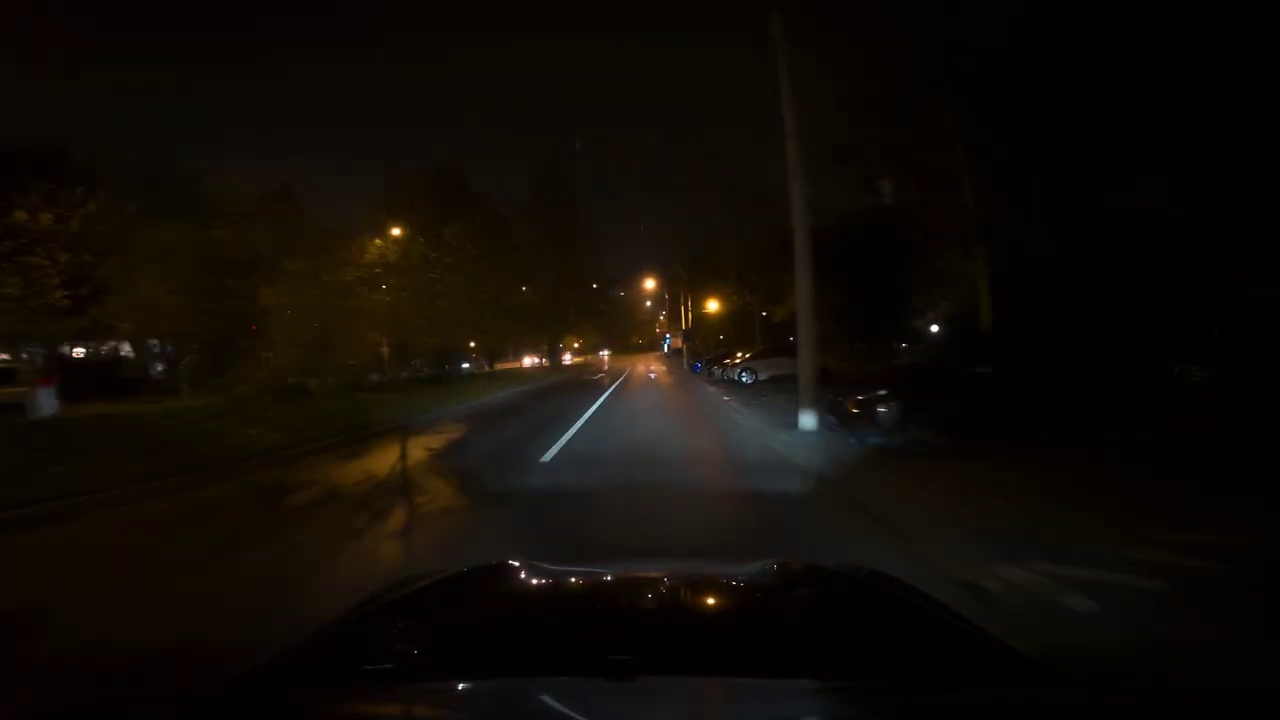acesa: (638, 274, 661, 297)
